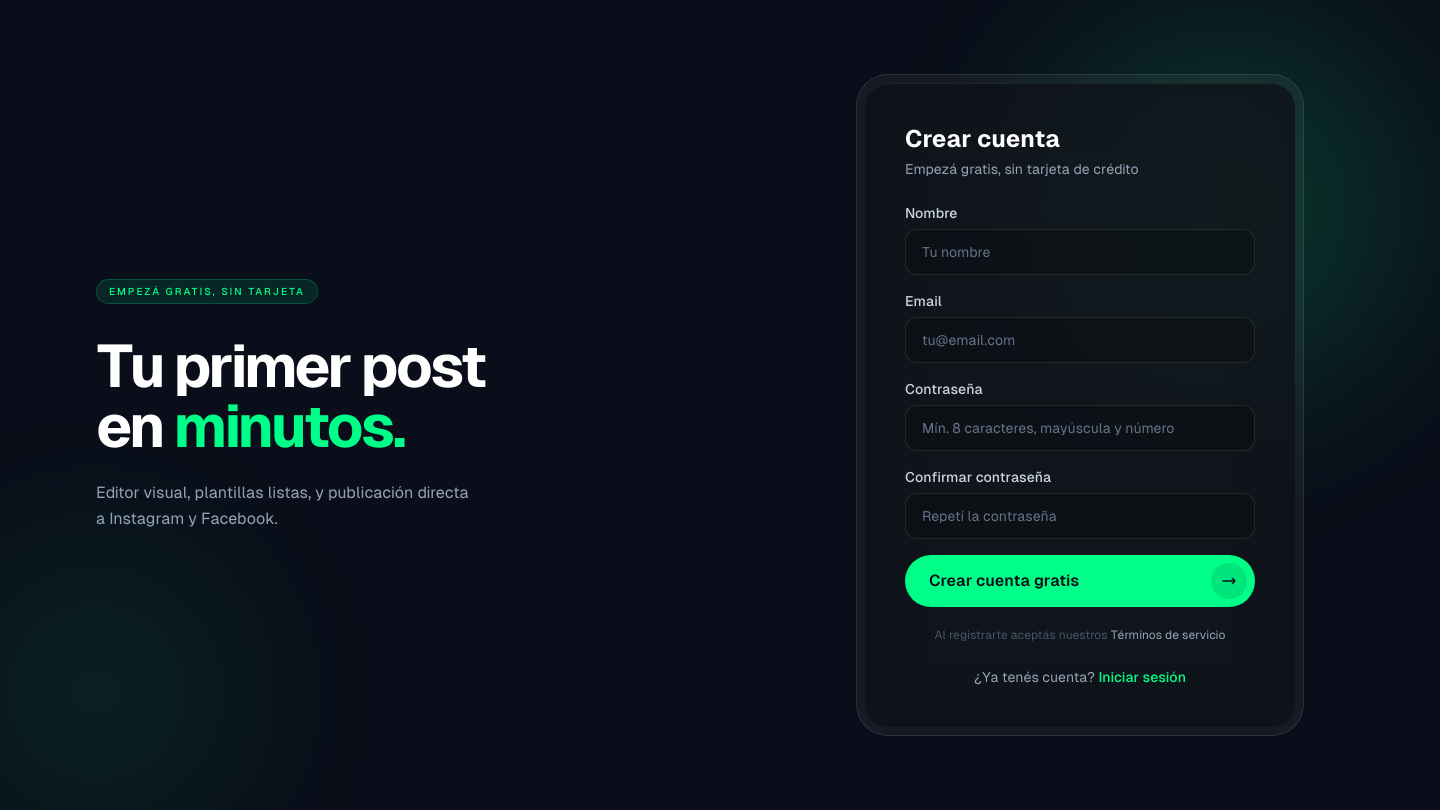
Test: Register › rechaza password sin número
The image size is (1440, 810).
Type "Franco" into the field labelled "Nombre" at (1080, 252), box [905, 229, 1255, 275]
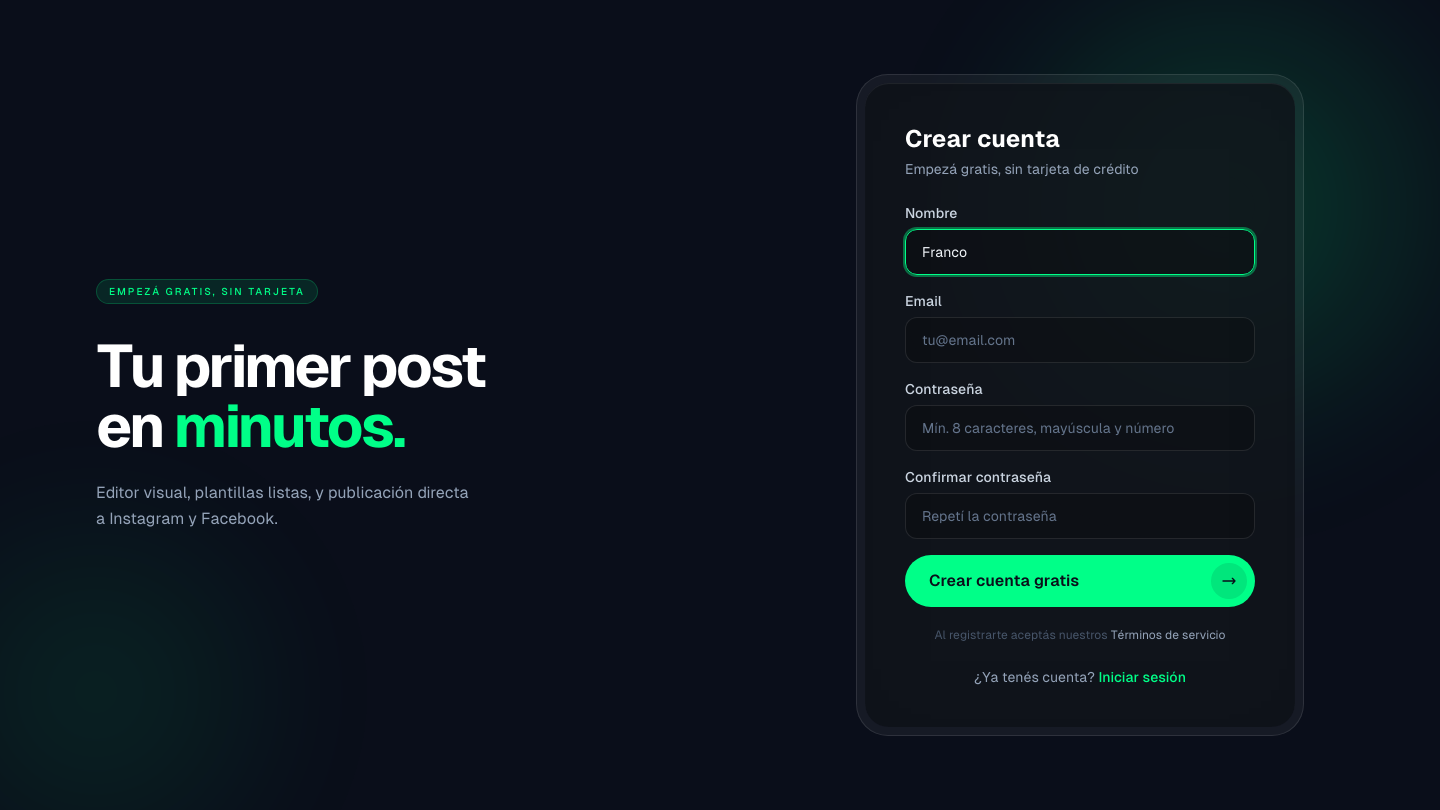
Type "franco@test.com" into the field labelled "Email" at (1080, 340), box [905, 317, 1255, 363]
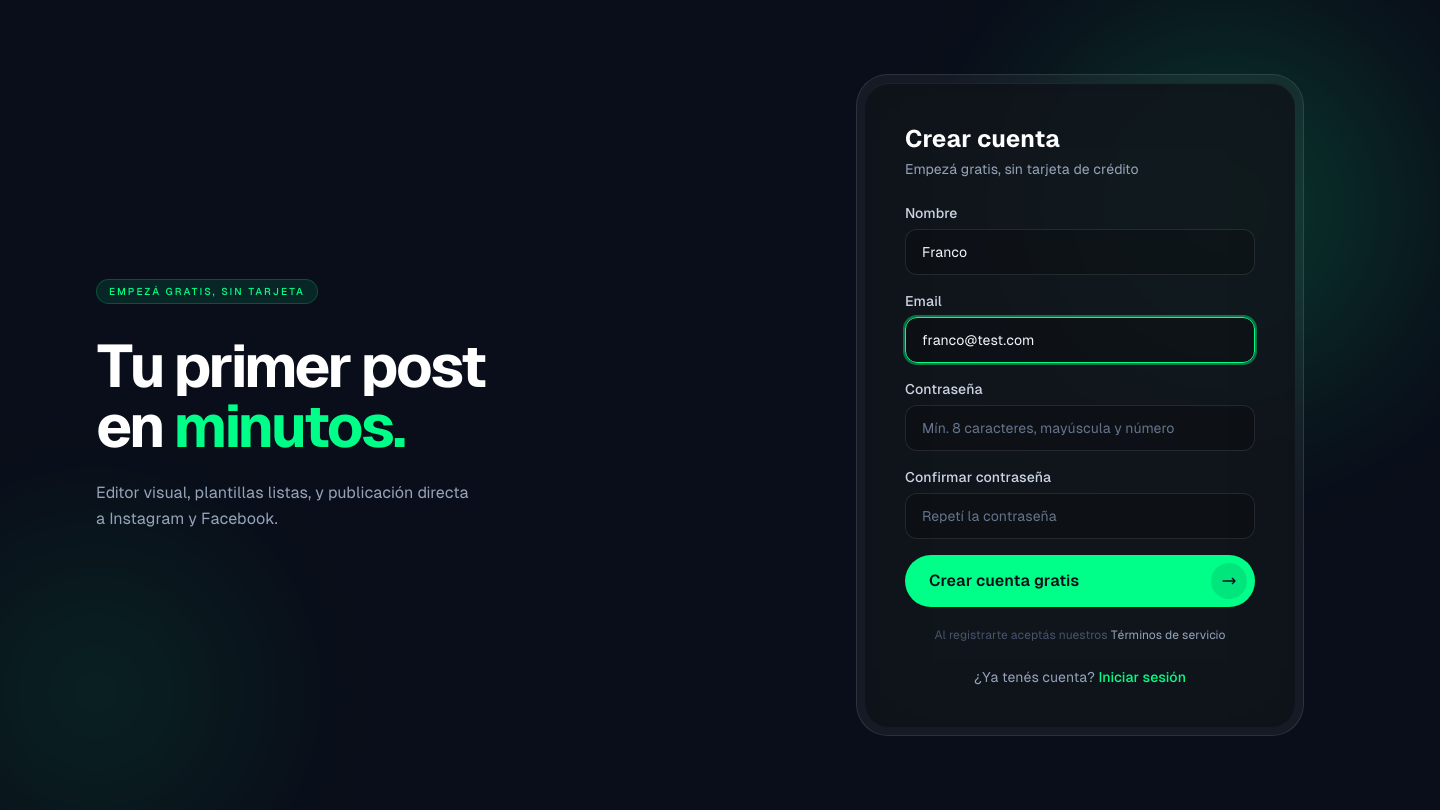
Type "Passworddd" into the password field labelled "Contraseña" at (1080, 428), box [905, 405, 1255, 451]
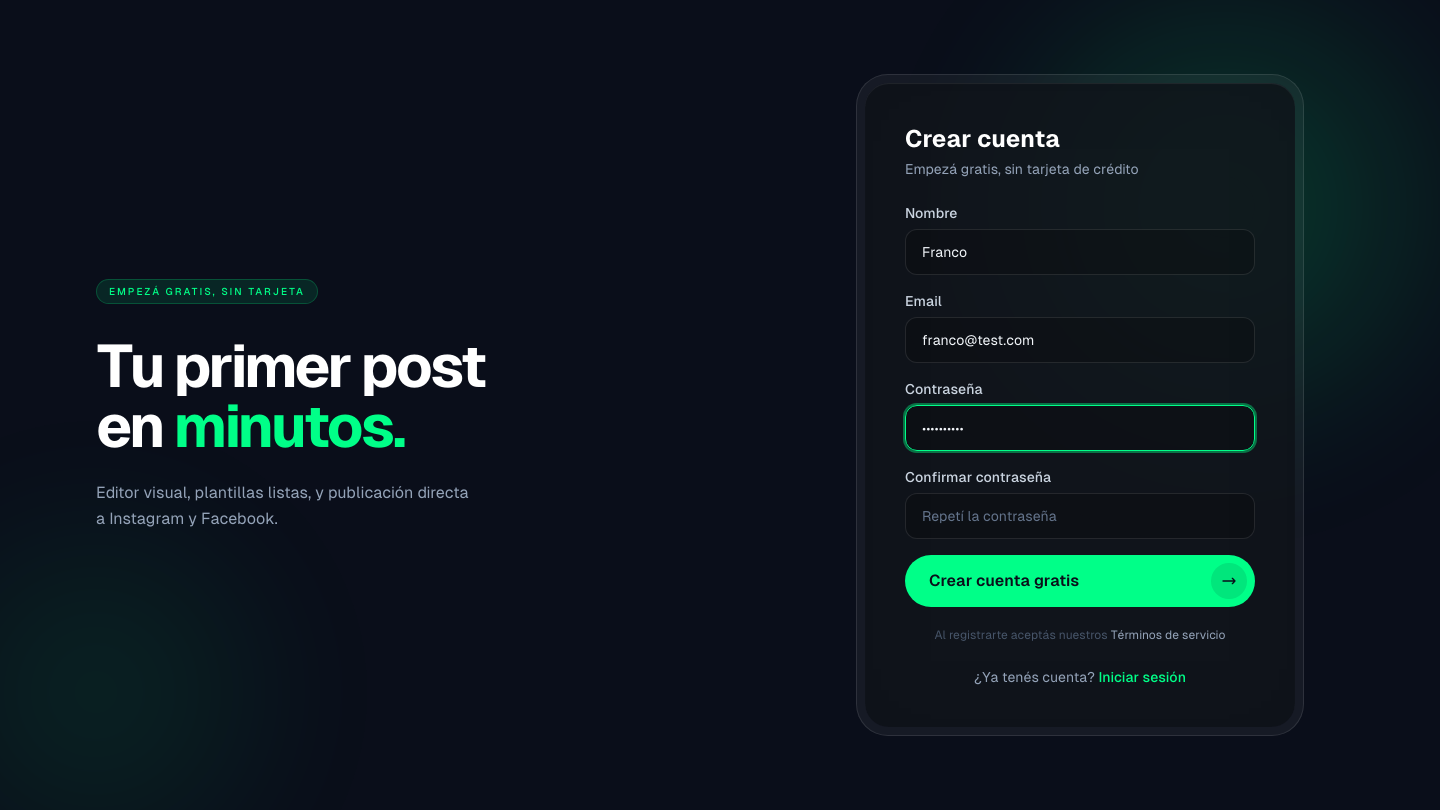
Type "Passworddd" into the password field labelled "Confirmar contraseña" at (1080, 516), box [905, 493, 1255, 539]
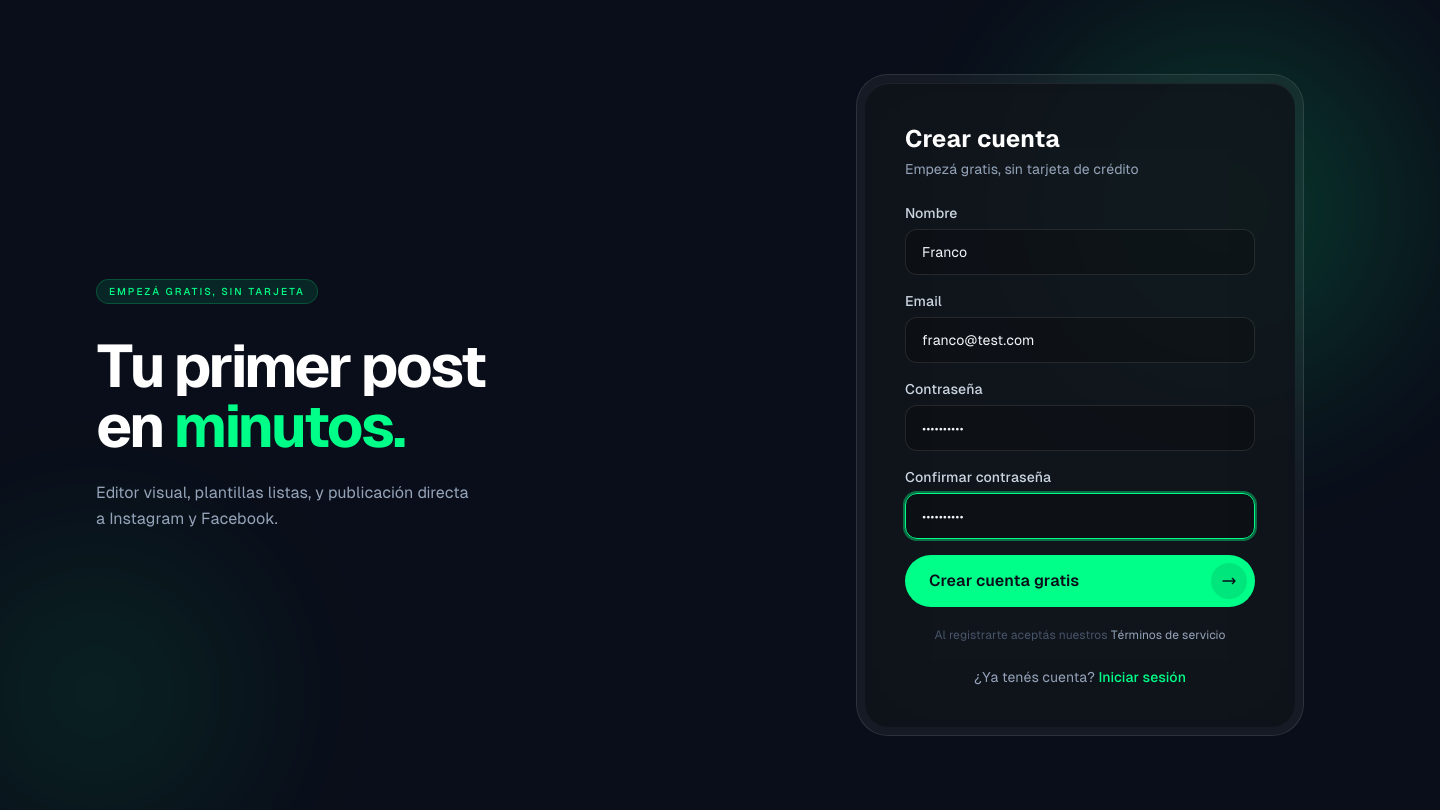
Click the button "Crear cuenta gratis" at (1080, 581), box [905, 555, 1255, 607]
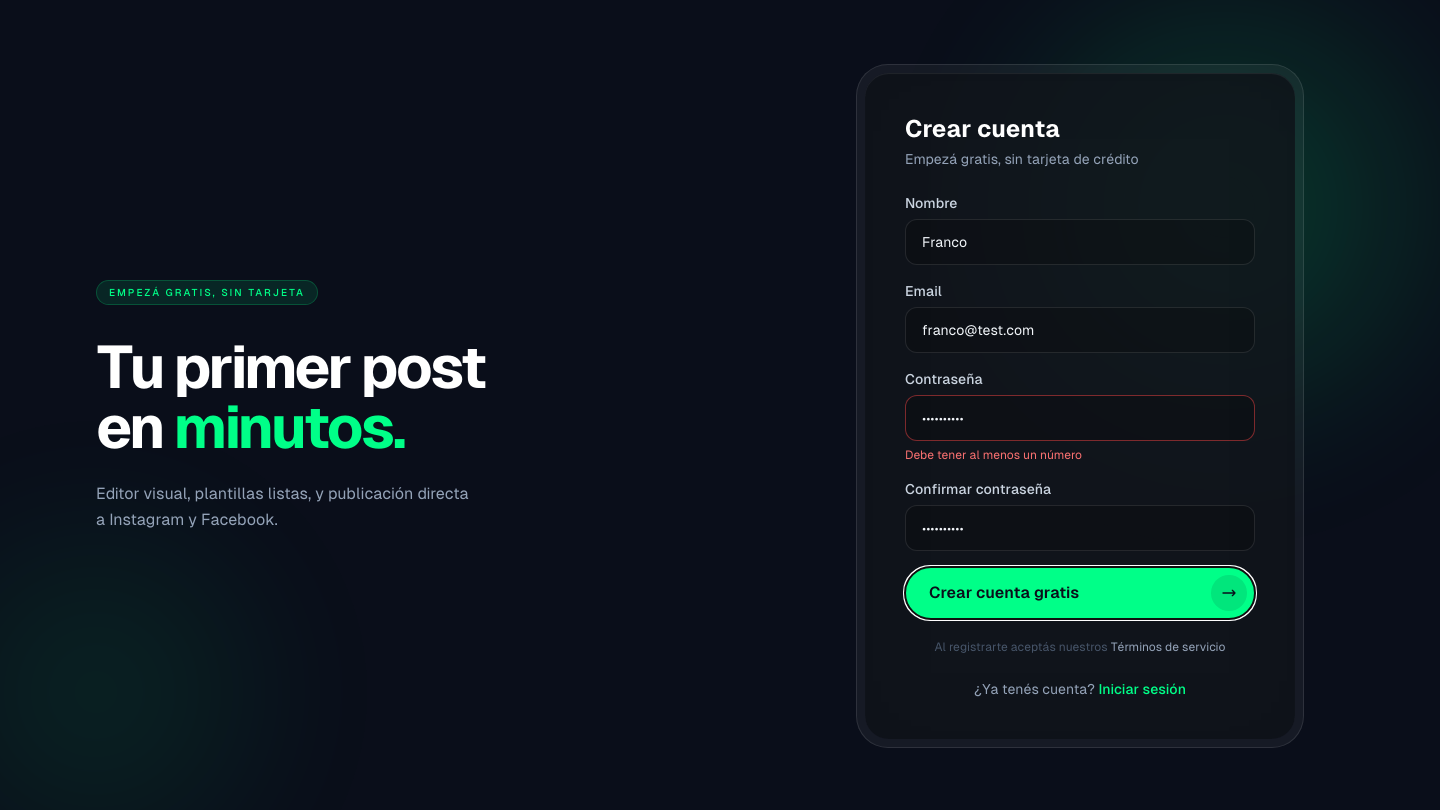
expect the text "Debe tener al menos un número" is shown: met, box [905, 448, 1082, 462]
